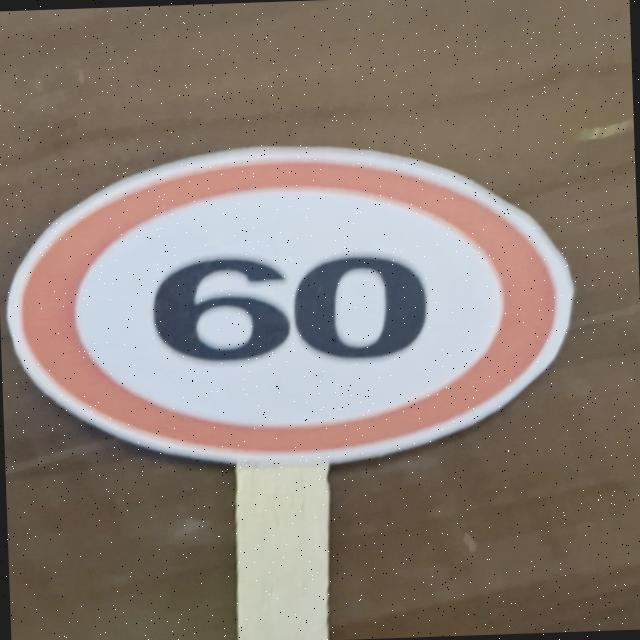Speed60: (0, 130, 586, 474)
